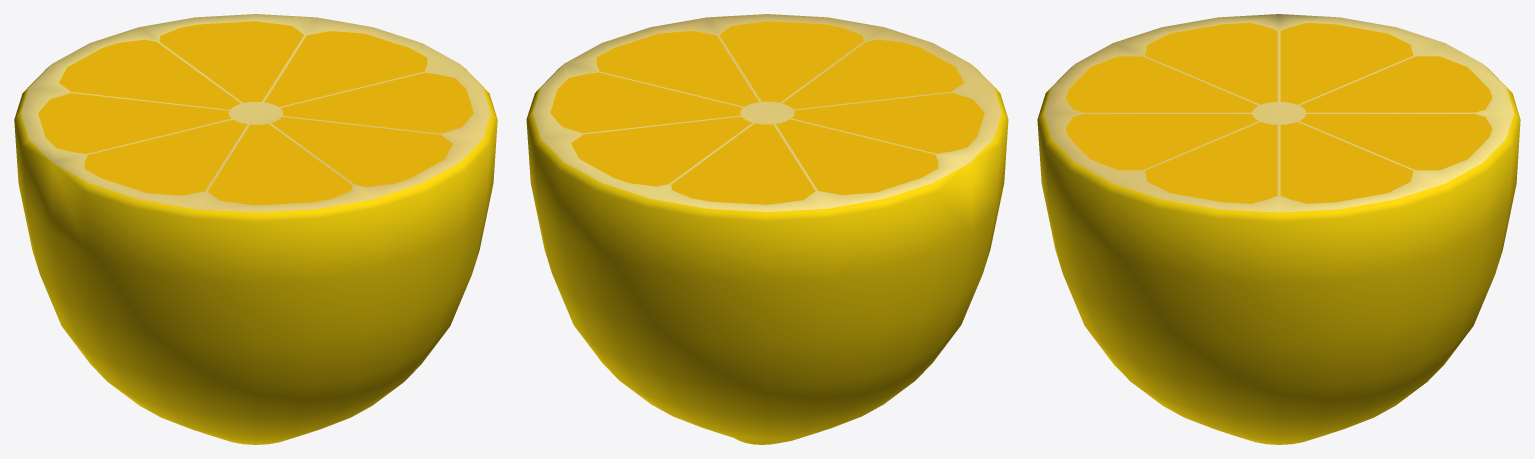
The model's file is Half_a_lemon.fbx.
The picture shows the model from 3 angles, left to right: view 1: azimuth 30°, elevation 25°; view 2: azimuth 150°, elevation 25°; view 3: azimuth 270°, elevation 25°; orthographic projection.
Parts seen in each view (by area): view 1: Half_a_lemon; view 2: Half_a_lemon; view 3: Half_a_lemon.
Boxes of the visible parts, x1,y1,x2,y2 form: Half_a_lemon: [14, 14, 497, 444]; Half_a_lemon: [526, 14, 1008, 444]; Half_a_lemon: [1037, 14, 1520, 444].
Bounding box in the file's own units: 95.57 × 71.09 × 96.36.
